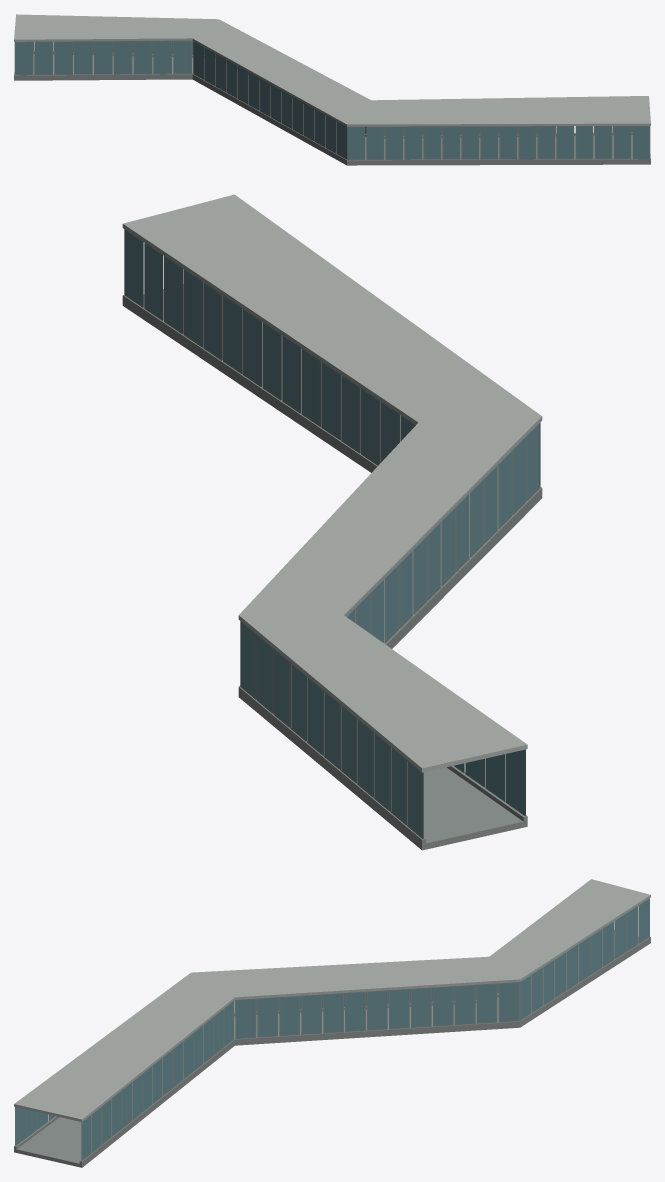
3 views of the same model, one above another, from view 1: azimuth 30°, elevation 25°; view 2: azimuth 150°, elevation 25°; view 3: azimuth 270°, elevation 25° (orthographic). The views are drawn at different scales.
Parts seen in each view (by area): view 1: bridge__glass, bridge__roof, bridge__beam, bridge__frame; view 2: bridge__roof, bridge__glass, bridge__beam, bridge__frame; view 3: bridge__roof, bridge__glass, bridge__beam, bridge__frame.
Boxes of the visible parts, x1,y1,x2,y2 form: bridge__glass: [15, 40, 649, 159]; bridge__roof: [14, 14, 650, 126]; bridge__beam: [14, 51, 650, 165]; bridge__frame: [14, 40, 650, 159]; bridge__roof: [122, 194, 542, 772]; bridge__glass: [125, 231, 539, 838]; bridge__beam: [122, 282, 542, 850]; bridge__frame: [124, 229, 540, 838]; bridge__roof: [14, 879, 650, 1121]; bridge__glass: [15, 899, 649, 1160]; bridge__beam: [14, 929, 650, 1167]; bridge__frame: [15, 898, 649, 1160].
Bounding box in the file's own units: 35.97 × 3.37 × 40.26.
